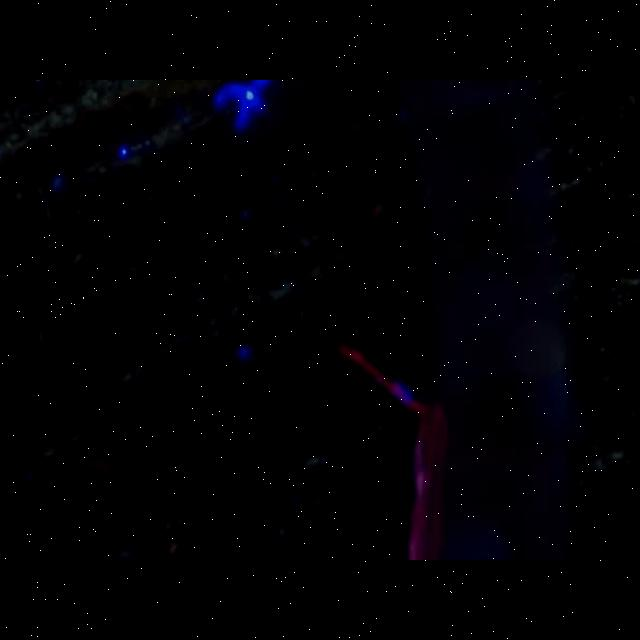Fibre: (338, 344, 428, 418)
